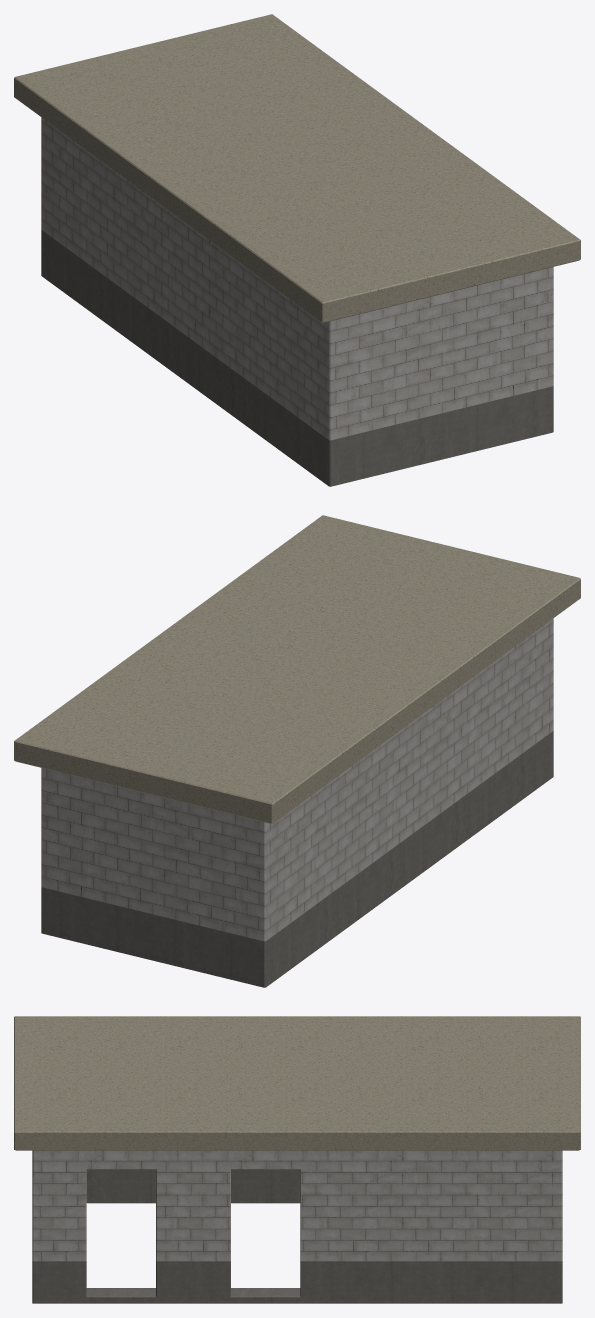
Rendered from RoofBuilding02.fbx.
3 renders of one model, top to bottom at view 1: azimuth 30°, elevation 25°; view 2: azimuth 150°, elevation 25°; view 3: azimuth 270°, elevation 25°, orthographic. The views are drawn at different scales.
Parts seen in each view (by area): view 1: RoofBuilding02; view 2: RoofBuilding02; view 3: RoofBuilding02.
Boxes of the visible parts, x1=… form: RoofBuilding02: x1=14, y1=14, x2=580, y2=486; RoofBuilding02: x1=14, y1=515, x2=580, y2=987; RoofBuilding02: x1=14, y1=1016, x2=580, y2=1303.
Size of the model in its own units: 483 by 348 by 996.
